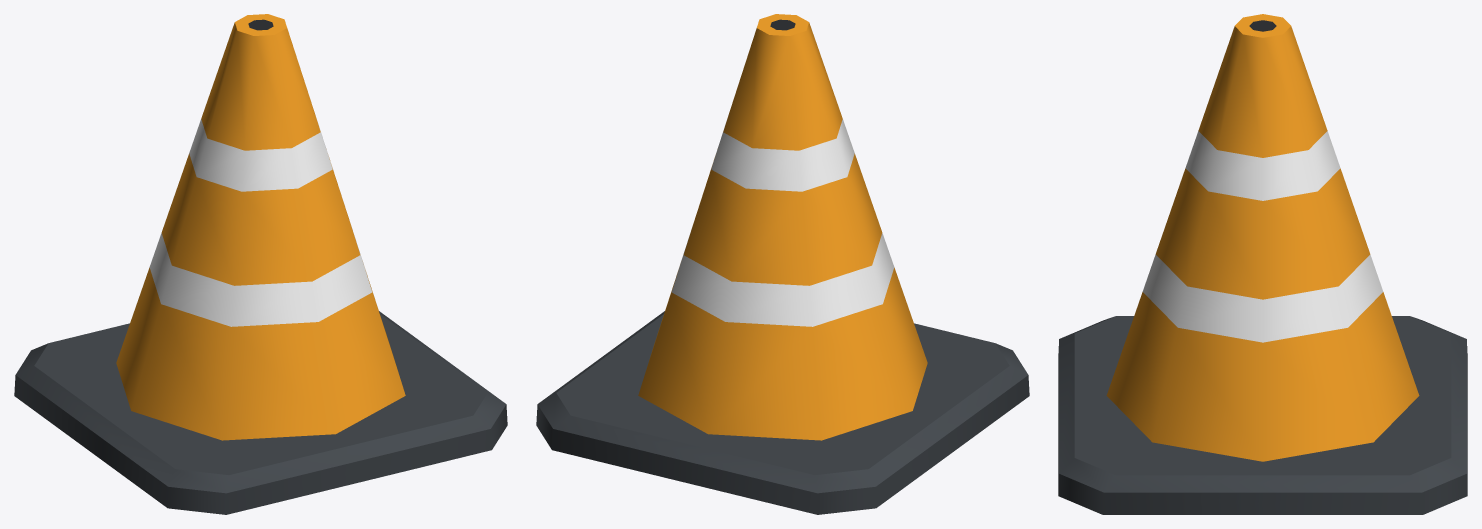
Rendered from Sign_2.fbx.
3 views of the same model, side by side, from view 1: azimuth 30°, elevation 25°; view 2: azimuth 150°, elevation 25°; view 3: azimuth 270°, elevation 25° (orthographic). The views are drawn at different scales.
Visible parts, largest first — view 1: Sign_2; view 2: Sign_2; view 3: Sign_2.
Boxes of the visible parts, x1,y1,x2,y2 form: Sign_2: [14, 14, 507, 514]; Sign_2: [536, 14, 1029, 514]; Sign_2: [1058, 14, 1467, 514].
Size of the model in its own units: 47.81 by 51.83 by 47.81.
